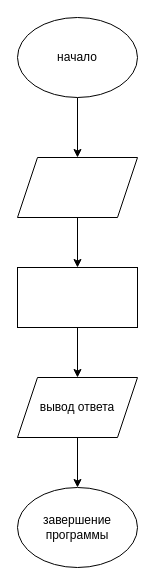
The diagram is 155 pixels wide and 585 high, and some of its shapes have lost their labels. Each missing label, with the centre of its shape:
введите числа a,b: pixel 77 187
вчисление: +,-,*,/: pixel 77 297
